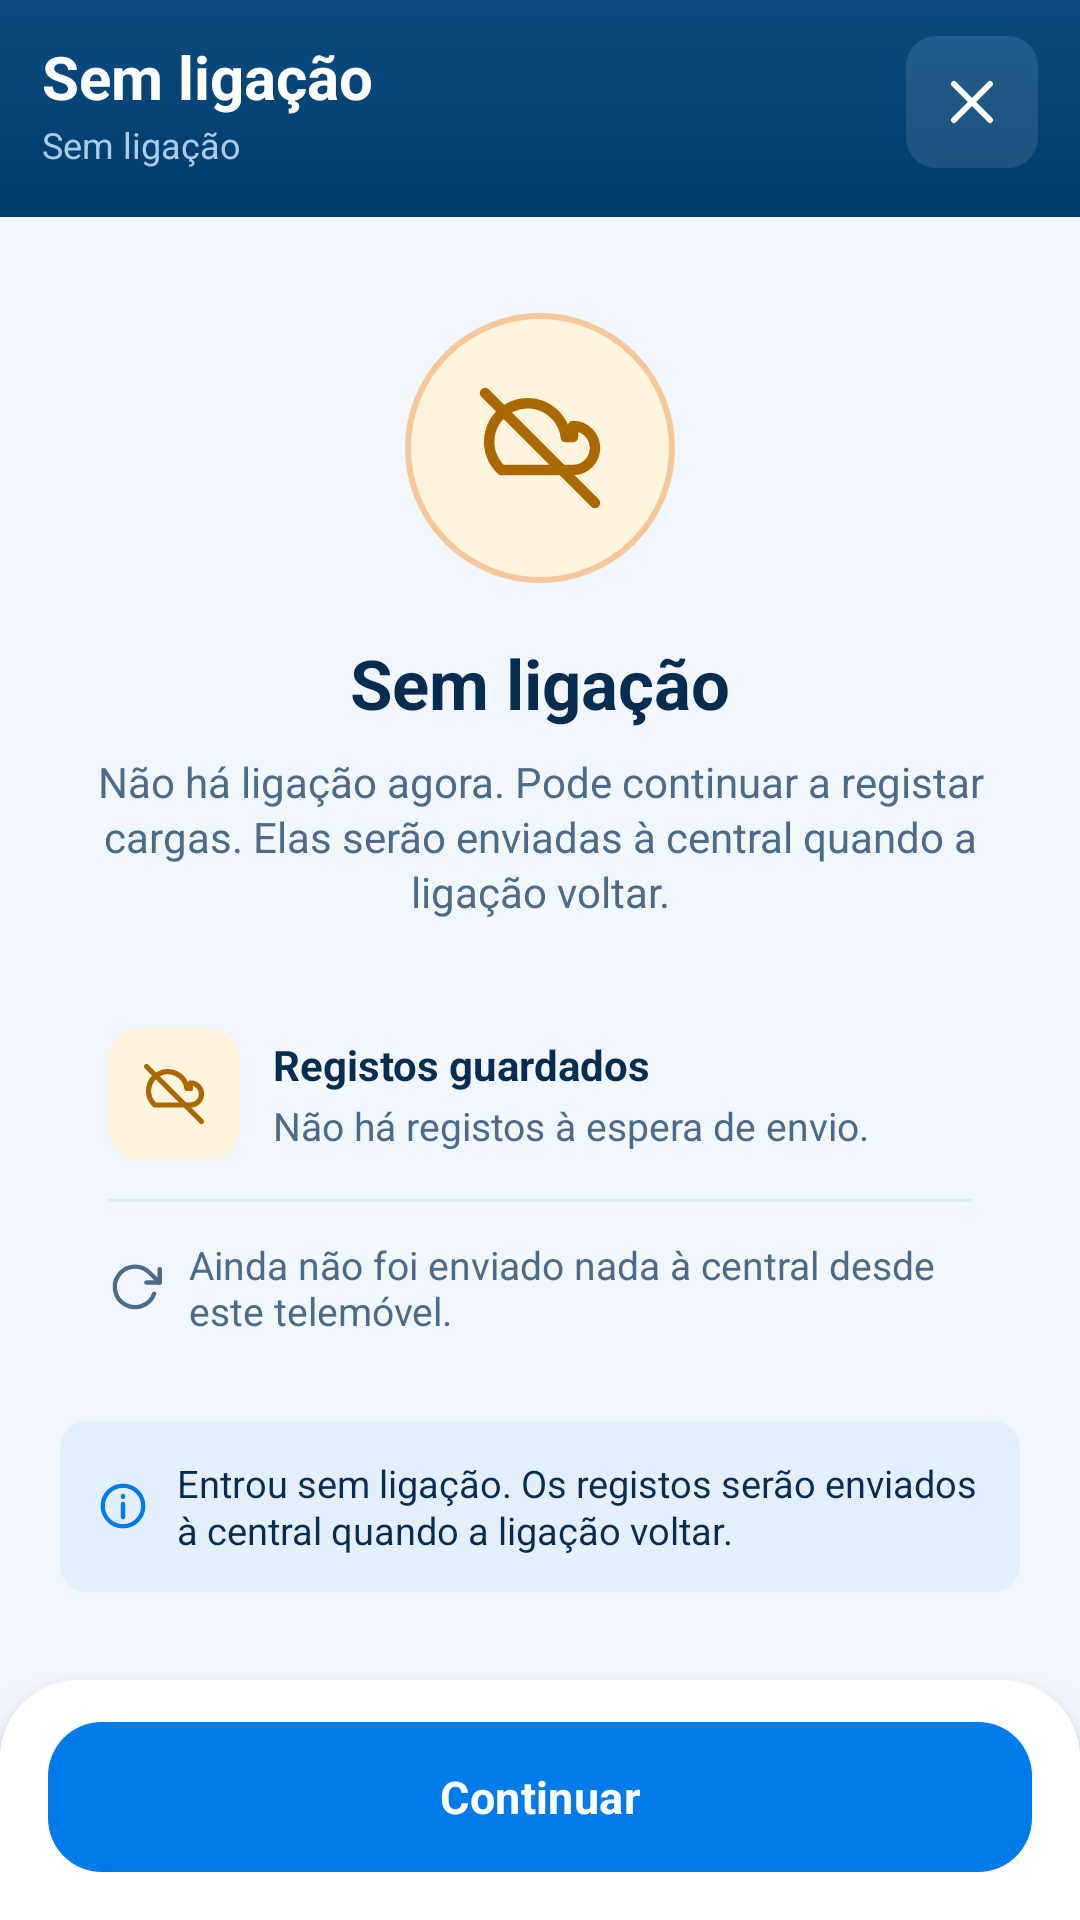

Point at icon controls on the screen. Image size 1080px x 1920px, points as point (x, y).
cloud off: point (540, 448), point (174, 1094)
Fechar: point (972, 102)
info: point (123, 1506)
sync: point (137, 1287)
